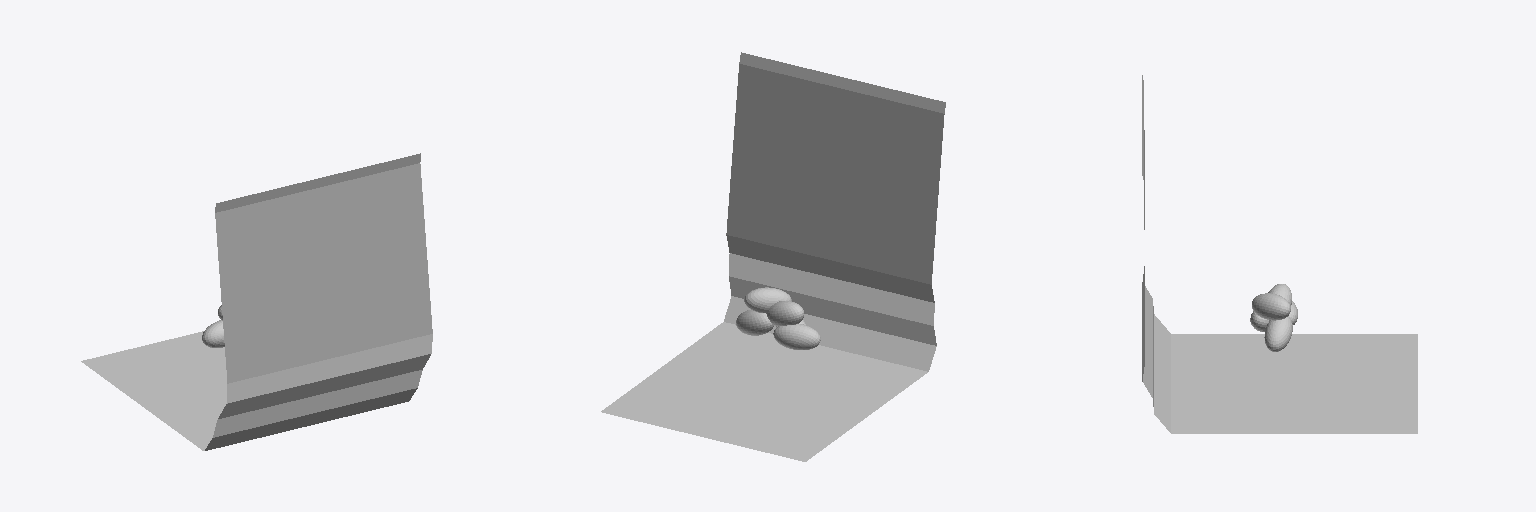
File: Little icloud longing for attention.obj
The picture shows the model from 3 angles: view 1: azimuth 30°, elevation 25°; view 2: azimuth 150°, elevation 25°; view 3: azimuth 270°, elevation 25°; orthographic projection.
Visible parts, largest first — view 1: Plane, Sphere.003; view 2: Plane, Sphere.003; view 3: Plane, Sphere.003.
Boxes of the visible parts, x1,y1,x2,y2 form: Plane: [81, 153, 432, 450]; Sphere.003: [202, 305, 224, 347]; Plane: [601, 52, 945, 461]; Sphere.003: [736, 287, 820, 349]; Plane: [1142, 75, 1417, 433]; Sphere.003: [1250, 284, 1297, 351].
Bounding box in the file's own units: 34.73 × 39.41 × 38.01.